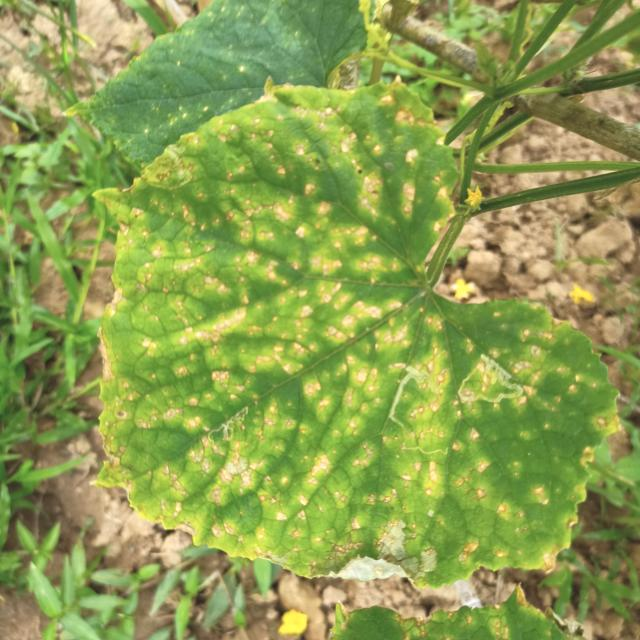disease_cucumber: (100, 95, 598, 571)
